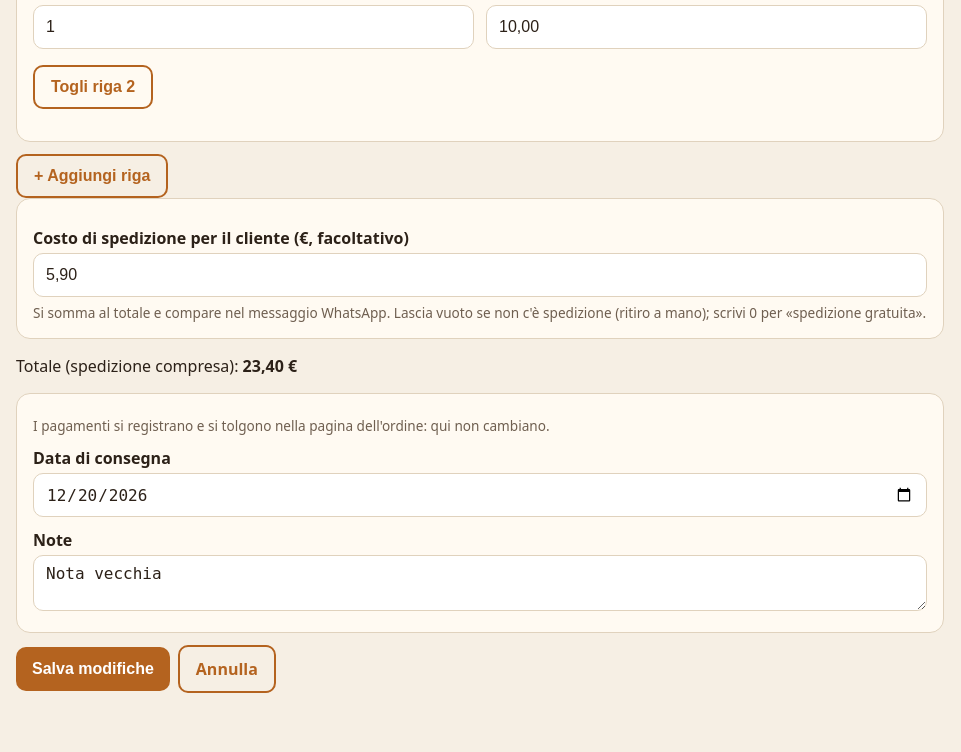
it: modifica di un ordine esistente › un errore di scrittura si legge e il pulsante si riattiva
(page scrolled)
Click the button "Salva modifiche": (93, 669) [16, 647, 170, 691]
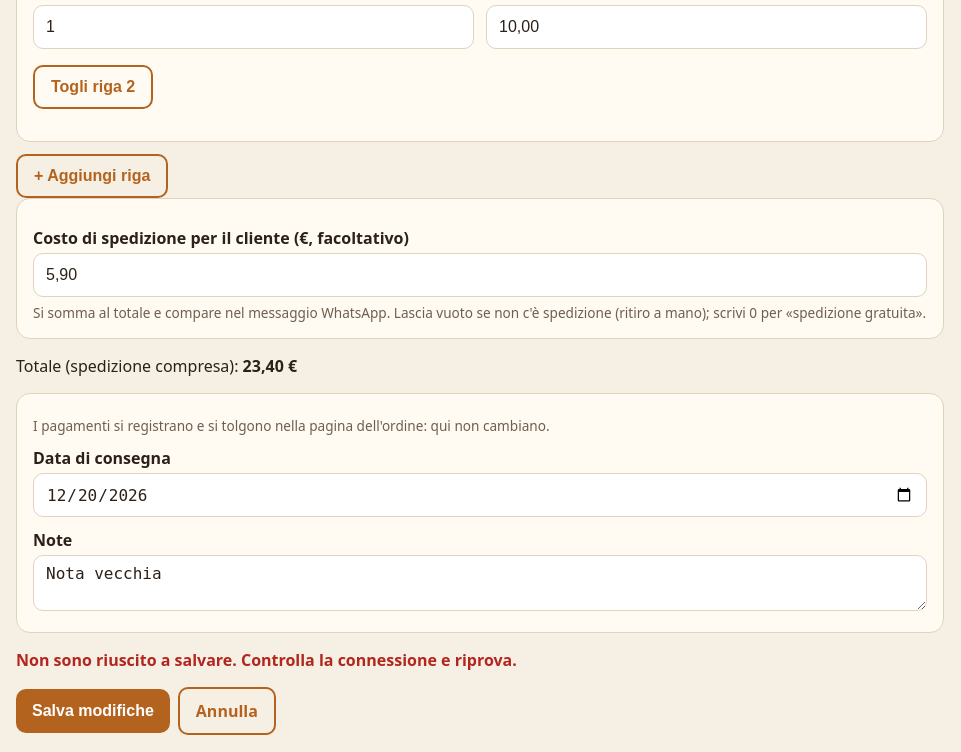
Expected: the button "Salva modifiche" is enabled, [16, 689, 170, 733]
Expected: the text "Non sono riuscito a salvare. Controlla la connessione e riprova." is shown, [16, 649, 517, 671]
